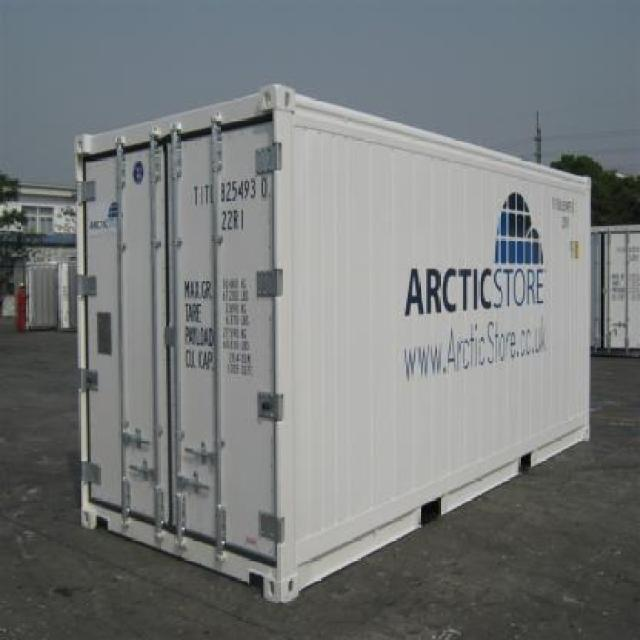ISO: (218, 207, 248, 230)
container_number: (190, 176, 269, 204)
